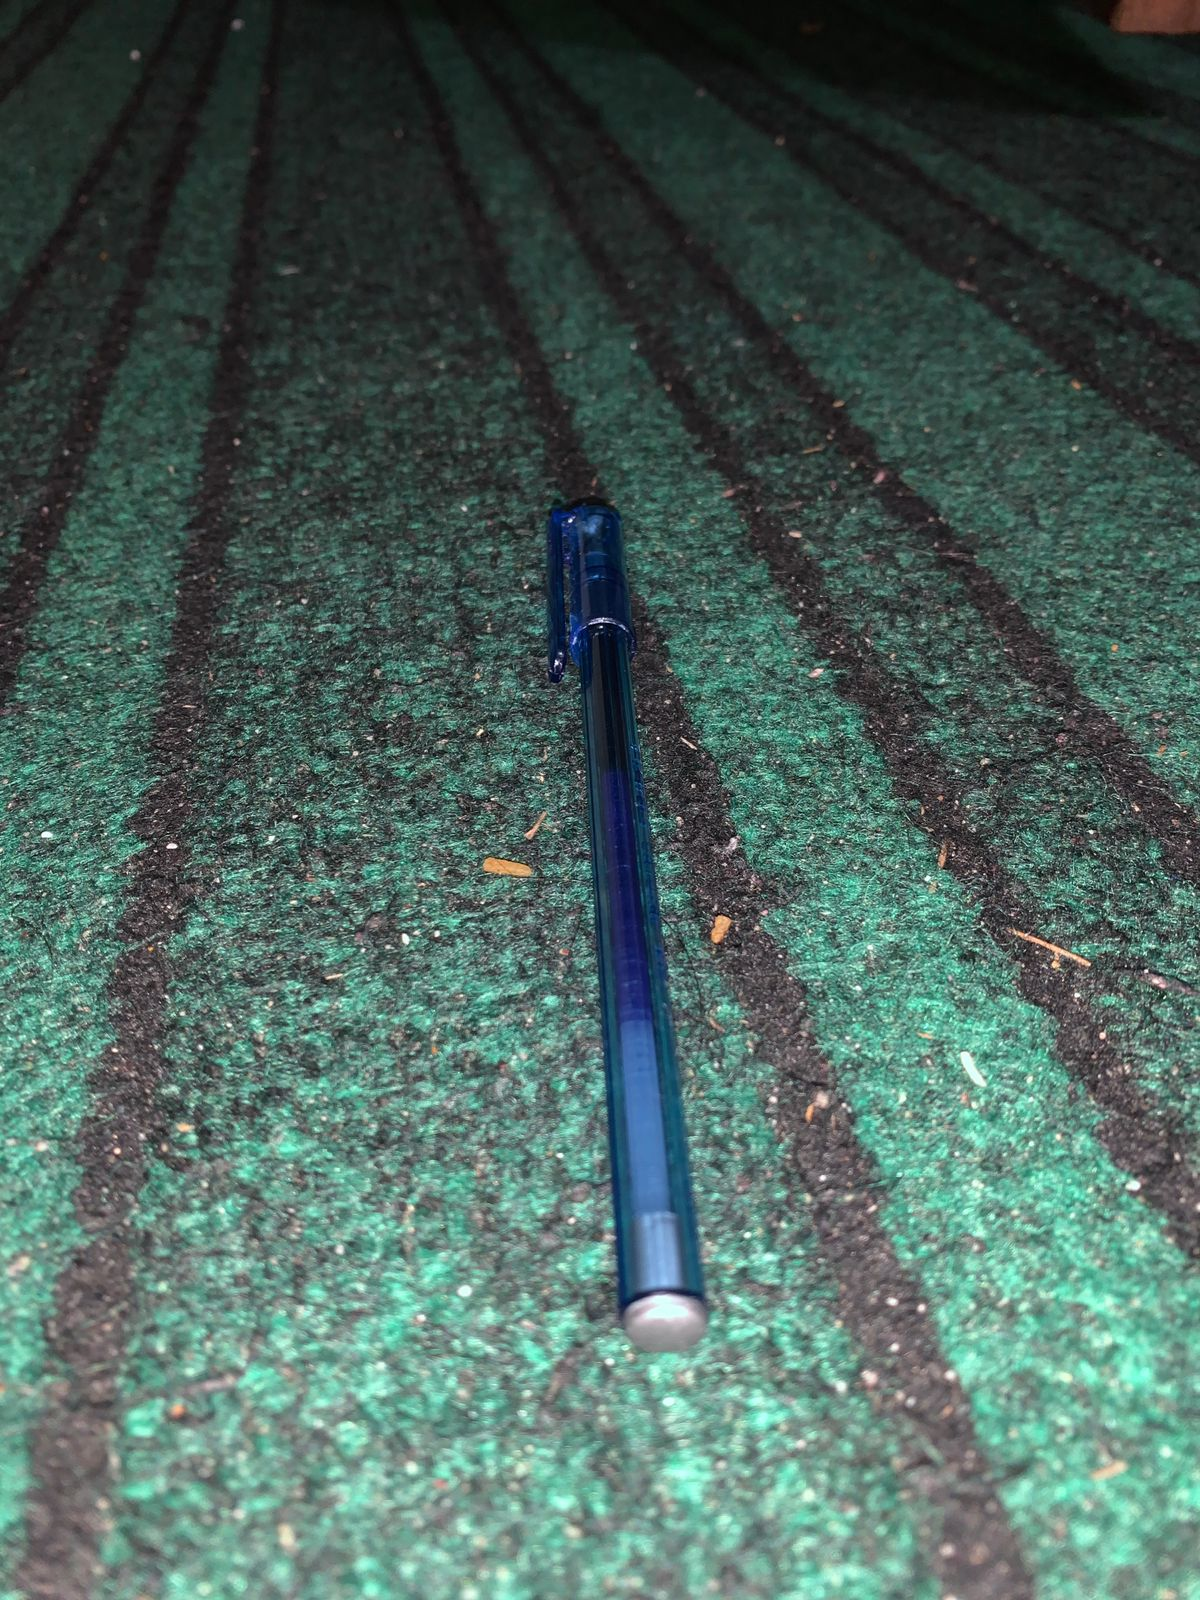pen: (418, 423, 831, 1411)
